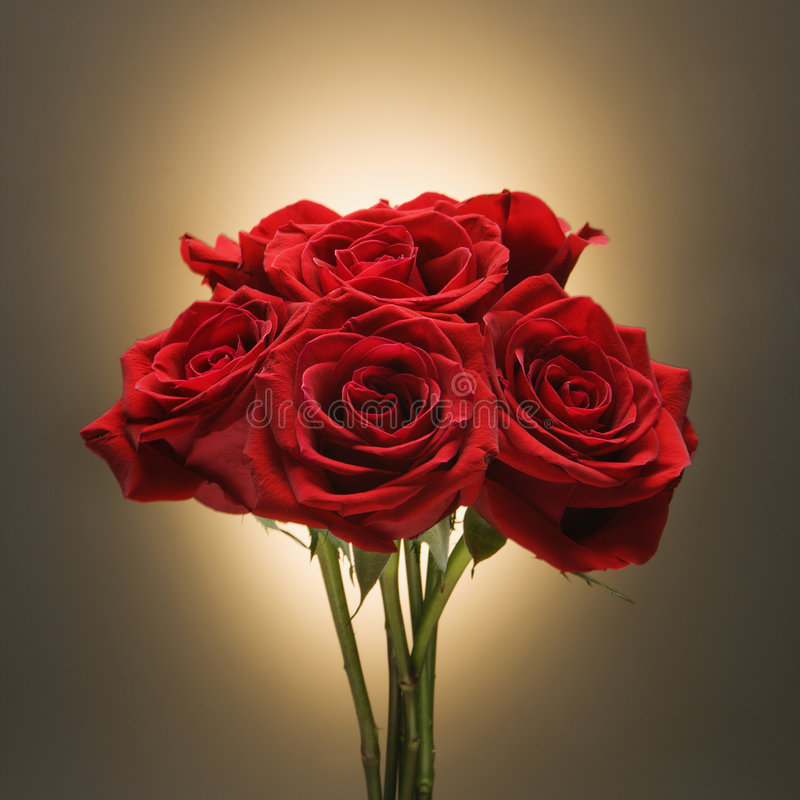RedRose: (466, 280, 700, 581), (256, 292, 494, 550), (80, 296, 292, 526), (269, 190, 522, 314), (169, 182, 337, 312), (454, 171, 619, 290)
